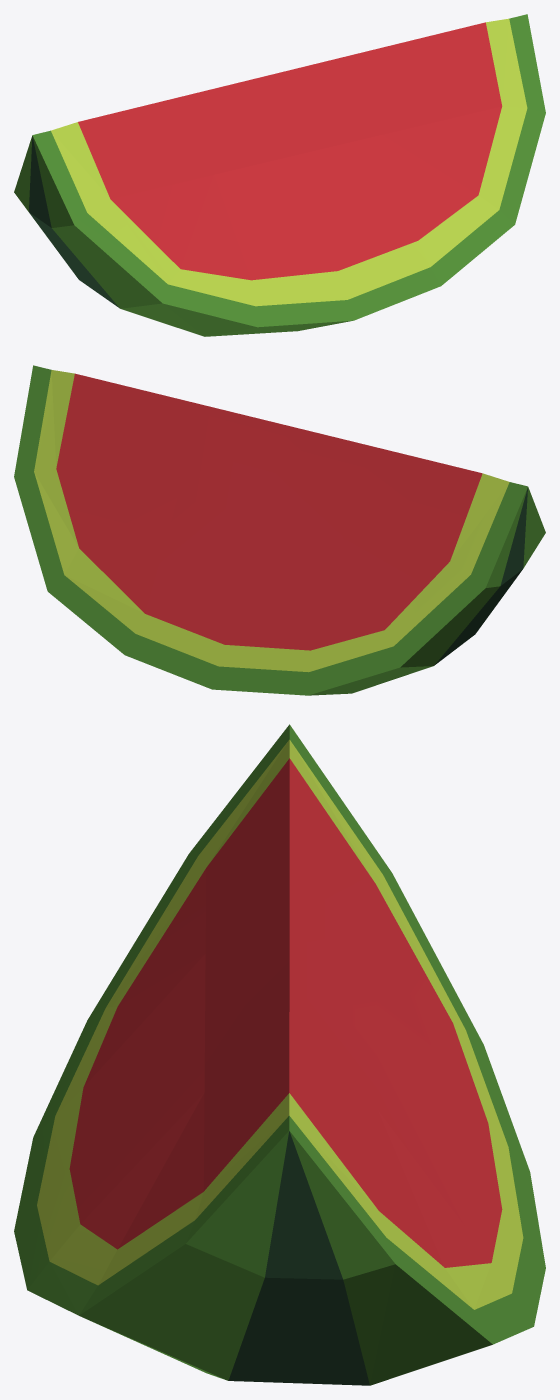
The model's file is melon-slice.glb.
3 views of the same model, one above another, from view 1: azimuth 30°, elevation 25°; view 2: azimuth 150°, elevation 25°; view 3: azimuth 270°, elevation 25° (orthographic). The views are drawn at different scales.
Parts seen in each view (by area): view 1: melon-slice; view 2: melon-slice; view 3: melon-slice.
Part boxes in pixels (box(x1,y1,x2,y2)): melon-slice: box(14, 14, 545, 336); melon-slice: box(14, 365, 545, 695); melon-slice: box(14, 724, 545, 1385).
Size of the model in its own units: 0.3859 by 0.1796 by 0.2133.
Materials: 1 (1 with a texture image).
